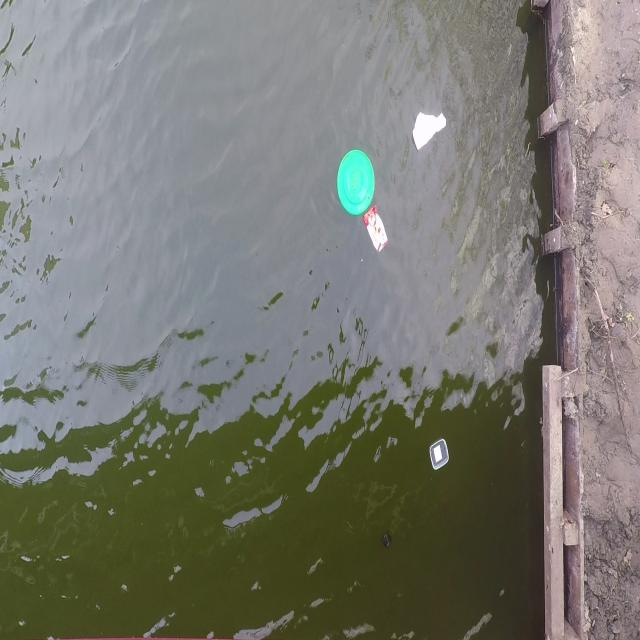Autre plastique: (335, 144, 379, 221), (360, 209, 389, 260), (425, 436, 452, 477)
